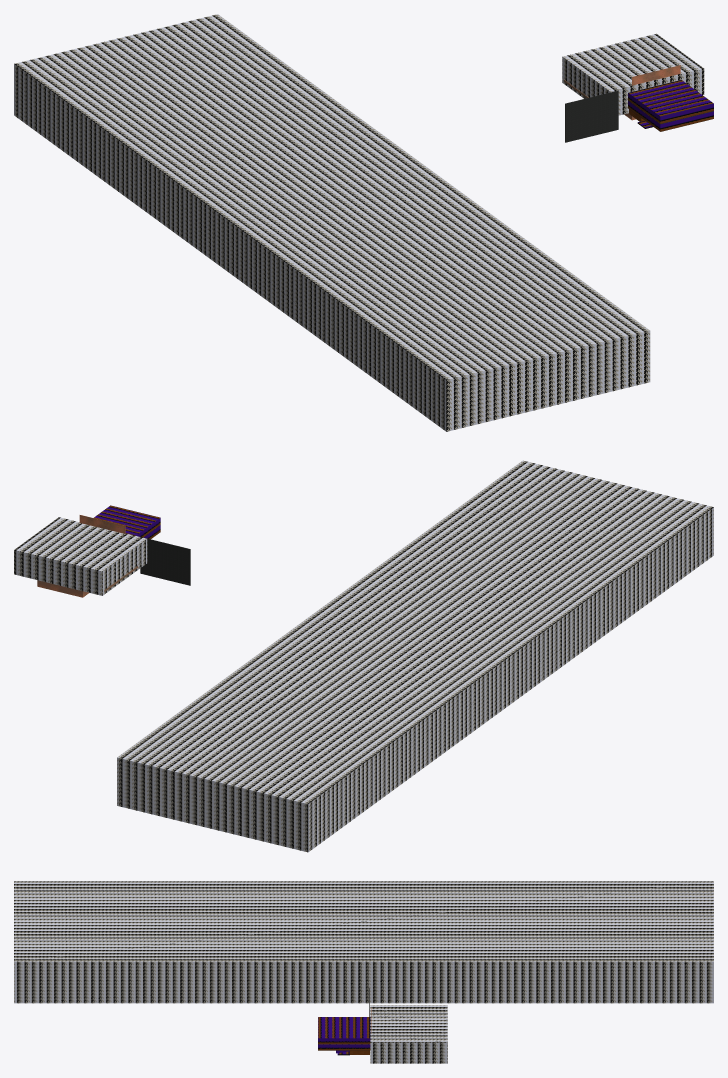
Rendered from Smash_brush.glb.
3 views of the same model, one above another, from view 1: azimuth 30°, elevation 25°; view 2: azimuth 150°, elevation 25°; view 3: azimuth 270°, elevation 25° (orthographic). The views are drawn at different scales.
Visible parts, largest first — view 1: Smash; view 2: Smash; view 3: Smash.
Boxes of the visible parts, <box> form: Smash: <box>14,14,713,431</box>; Smash: <box>14,460,713,852</box>; Smash: <box>14,881,713,1063</box>.
Size of the model in its own units: 15421 by 2898 by 24158.
Materials: 16 (16 with a texture image).
